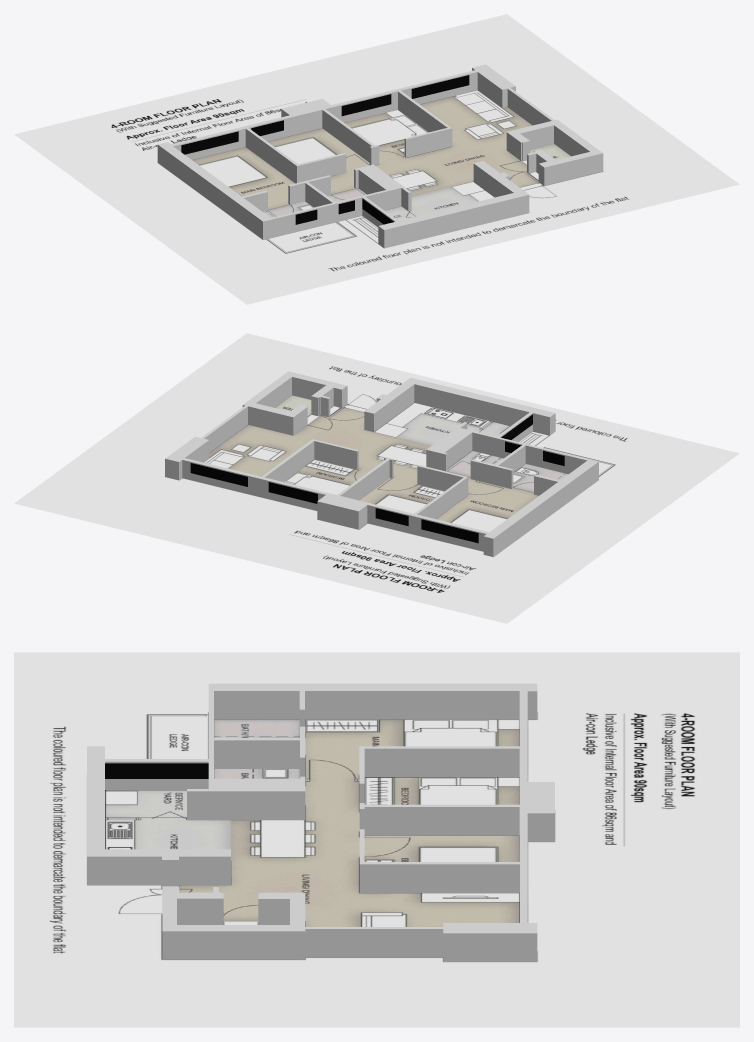
The model's file is redhill-peaks.obj.
The picture shows the model from 3 angles, top to bottom: view 1: azimuth 30°, elevation 25°; view 2: azimuth 150°, elevation 25°; view 3: azimuth 270°, elevation 25°; orthographic projection. The views are drawn at different scales.
Bounding box in the file's own units: 7324 × 260 × 5991.
3 materials, 1 textured.
